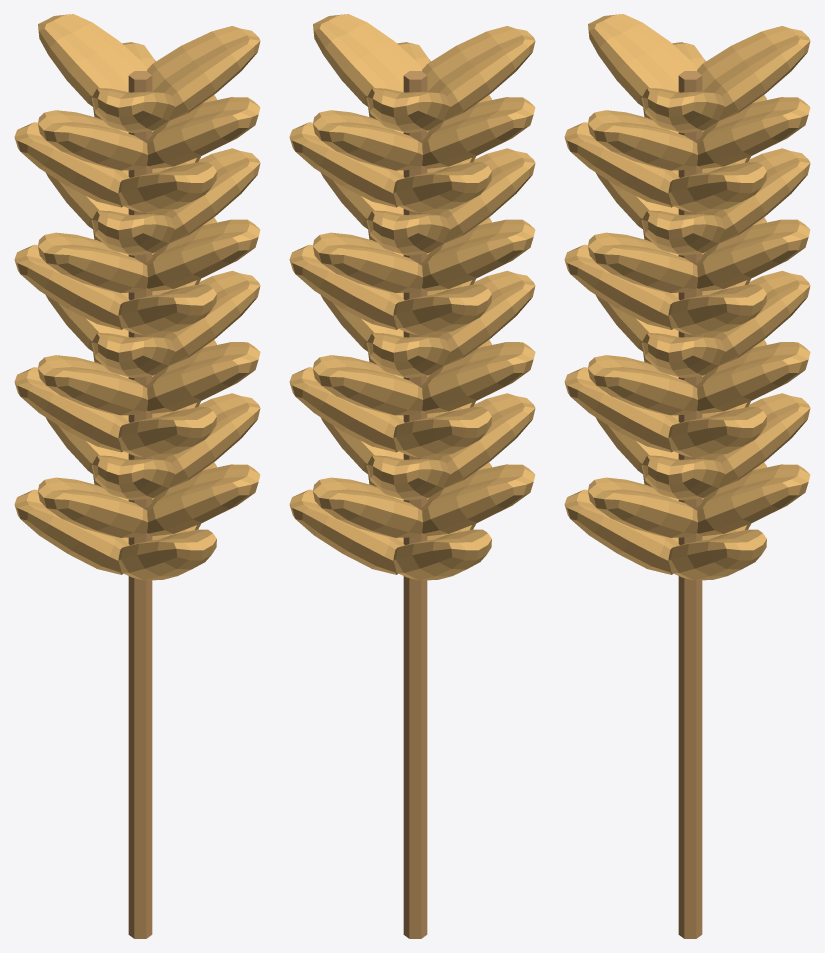
File: wheatPlant.gltf
3 views of the same model, side by side, from view 1: azimuth 30°, elevation 25°; view 2: azimuth 150°, elevation 25°; view 3: azimuth 270°, elevation 25° (orthographic).
Visible parts, largest first — view 1: Cube.001, Cylinder.001; view 2: Cube.001, Cylinder.001; view 3: Cube.001, Cylinder.001.
Part boxes in pixels (x1,y1,x2,y2): Cube.001: (14, 14, 260, 580); Cylinder.001: (128, 71, 152, 938); Cube.001: (289, 14, 535, 580); Cylinder.001: (403, 71, 427, 938); Cube.001: (564, 14, 810, 580); Cylinder.001: (678, 71, 702, 938).
Bounding box in the file's own units: 0.5232 × 2.06 × 0.5191.
